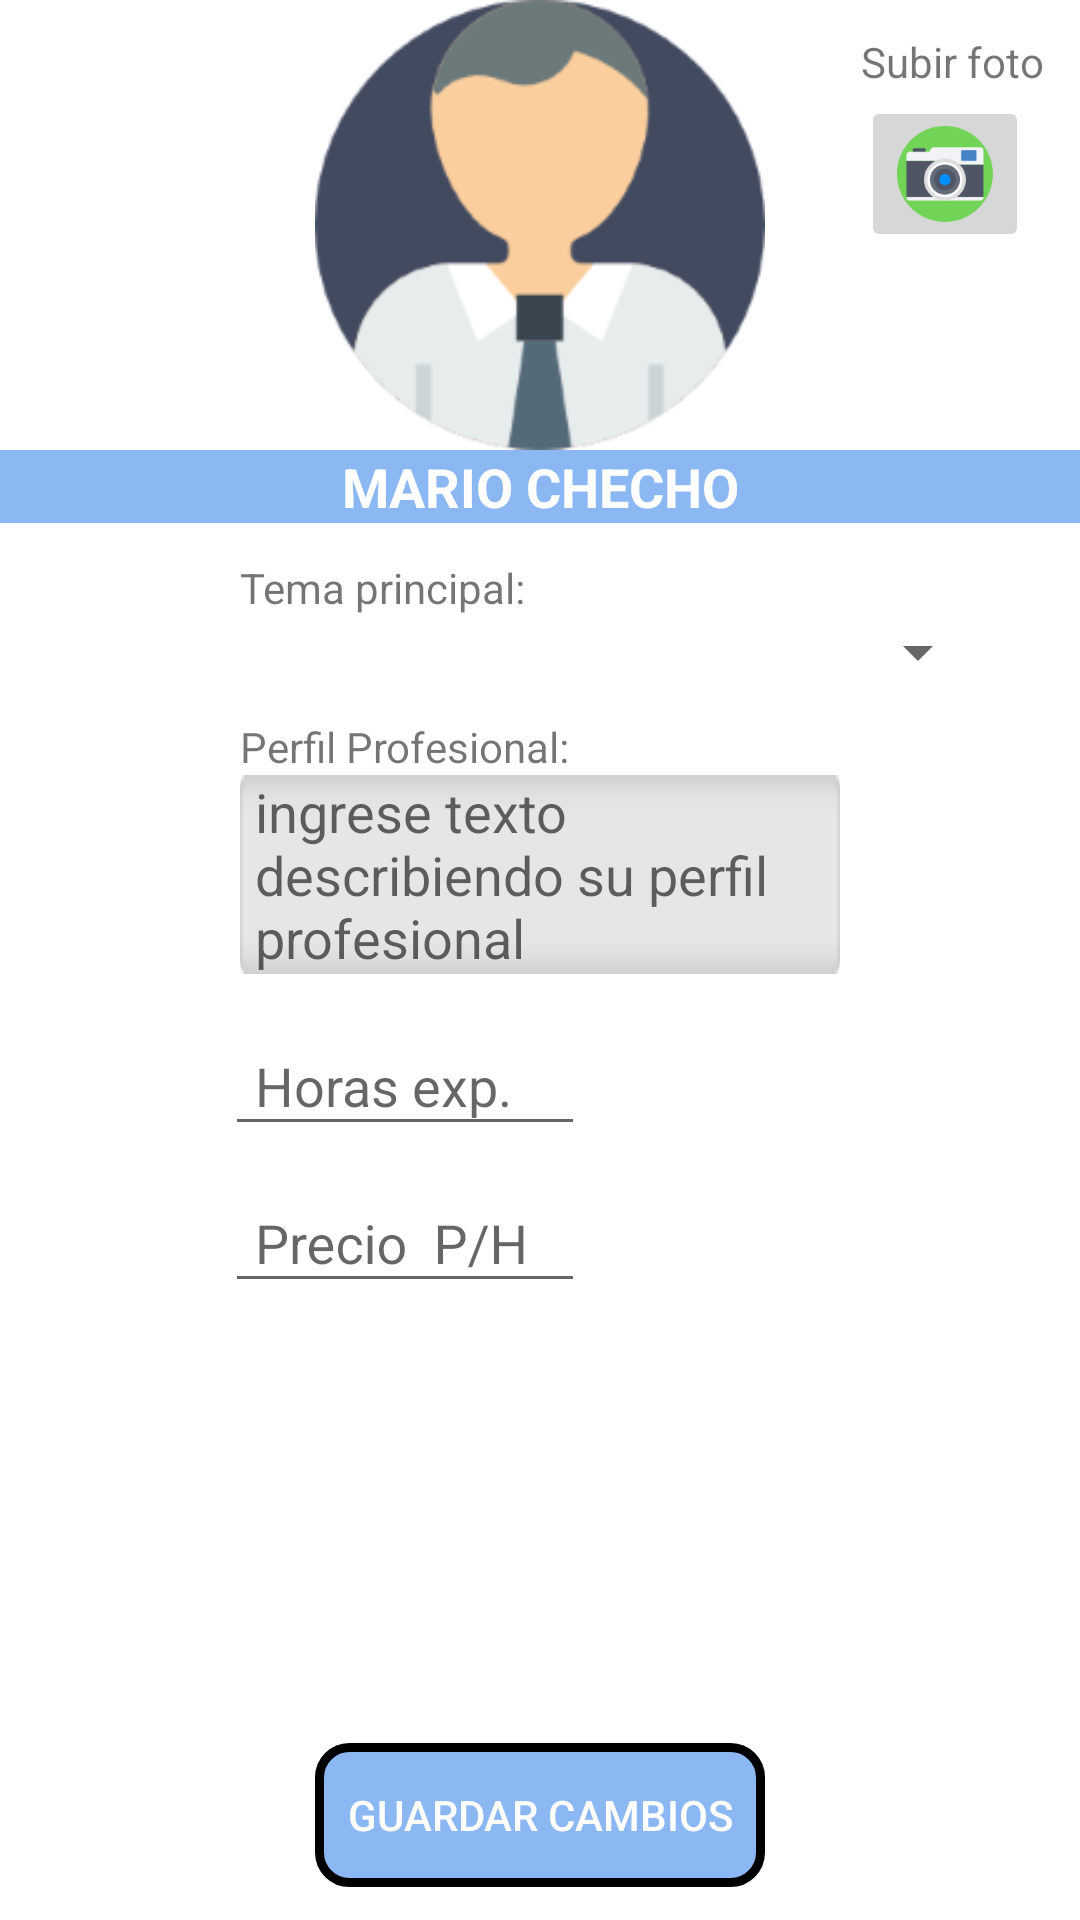

Icons on this 1080 × 1920 Android screen, each with the point to tap as (x=x, y=y):
camara: (x=945, y=174)
